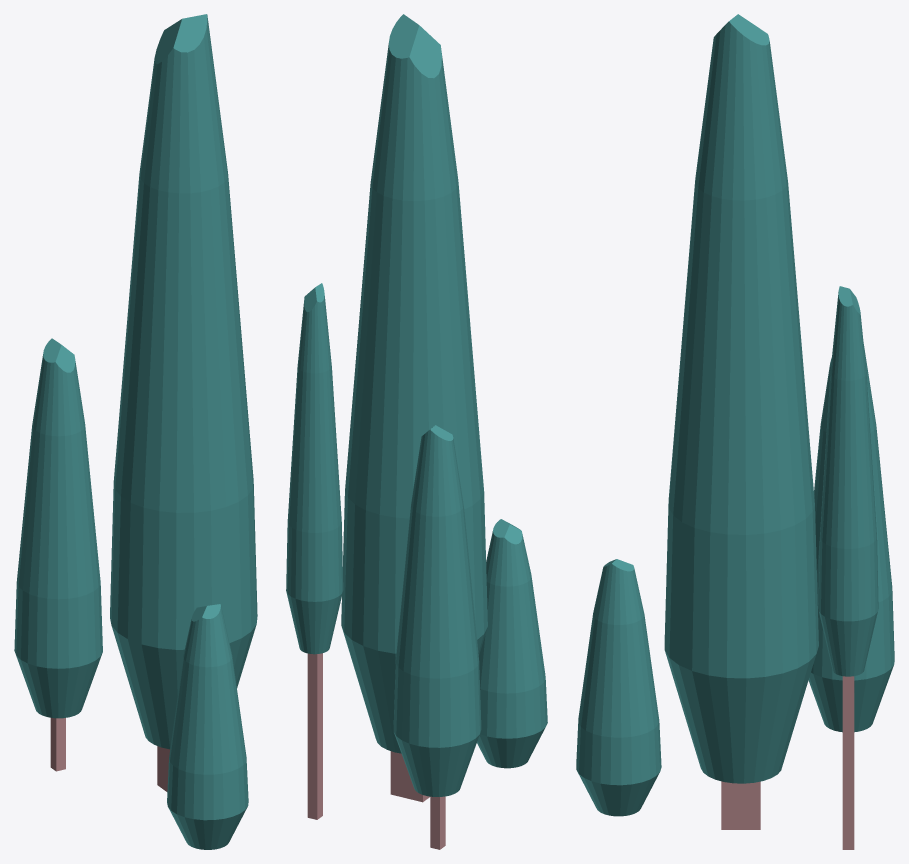
Rendered from millenial_tree.glb.
3 renders of one model, left to right at view 1: azimuth 30°, elevation 25°; view 2: azimuth 150°, elevation 25°; view 3: azimuth 270°, elevation 25°, orthographic. The views are drawn at different scales.
Visible parts, largest first — view 1: Cylinder.056; view 2: Cylinder.056; view 3: Cylinder.056.
Part boxes in pixels (box(x1,y1,x2,y2)): Cylinder.056: box(14, 14, 257, 849); Cylinder.056: box(286, 14, 547, 849); Cylinder.056: box(576, 14, 894, 849).
Bounding box in the file's own units: 0.7081 × 2.81 × 0.9995.
